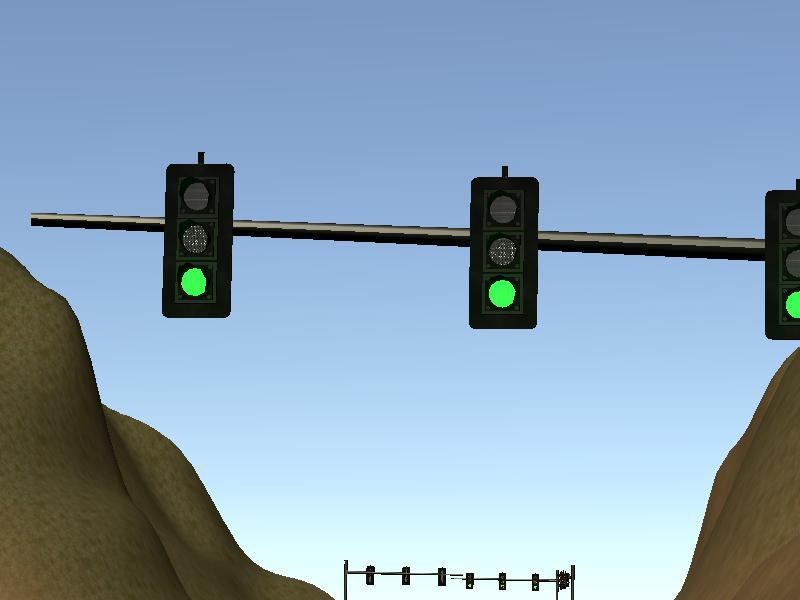Green: (166, 167, 229, 318), (473, 180, 535, 326), (767, 191, 800, 341)
